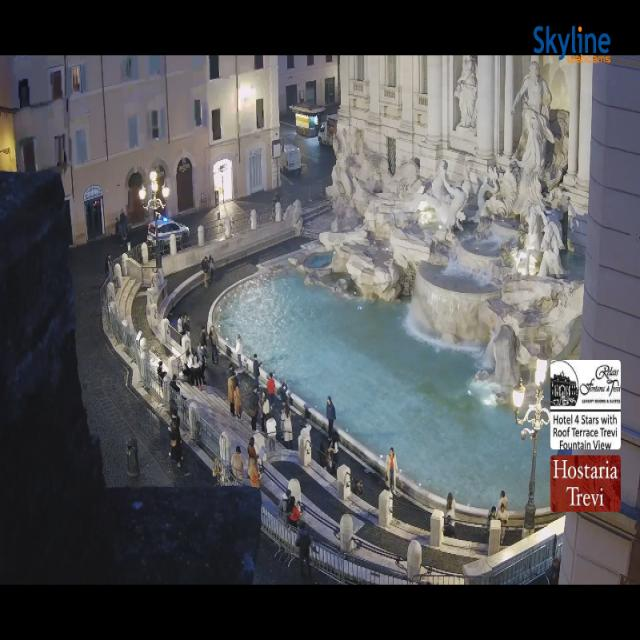person: (296, 523, 311, 577), (170, 419, 183, 467), (385, 448, 398, 492), (281, 402, 293, 449), (248, 437, 259, 488), (170, 375, 181, 417), (190, 352, 202, 390), (496, 504, 507, 544), (328, 431, 338, 475), (248, 388, 258, 431), (546, 556, 561, 584), (197, 344, 207, 384), (261, 392, 271, 432), (232, 446, 243, 481), (288, 496, 300, 528), (280, 489, 291, 523), (326, 397, 335, 438), (183, 348, 193, 384), (209, 326, 218, 364), (234, 377, 242, 419), (168, 413, 179, 443), (228, 371, 235, 416), (267, 417, 276, 452), (181, 352, 191, 383), (119, 210, 128, 243), (445, 492, 455, 521), (324, 442, 333, 474), (253, 353, 261, 388), (267, 373, 275, 407), (318, 439, 327, 468), (201, 258, 209, 288), (236, 335, 243, 369), (444, 516, 455, 537), (157, 362, 166, 385), (170, 374, 180, 394), (497, 491, 507, 511), (279, 380, 287, 404), (352, 480, 363, 496), (487, 506, 495, 528), (208, 255, 214, 283), (200, 326, 207, 349), (177, 315, 184, 336), (105, 255, 111, 278), (184, 315, 190, 338)
